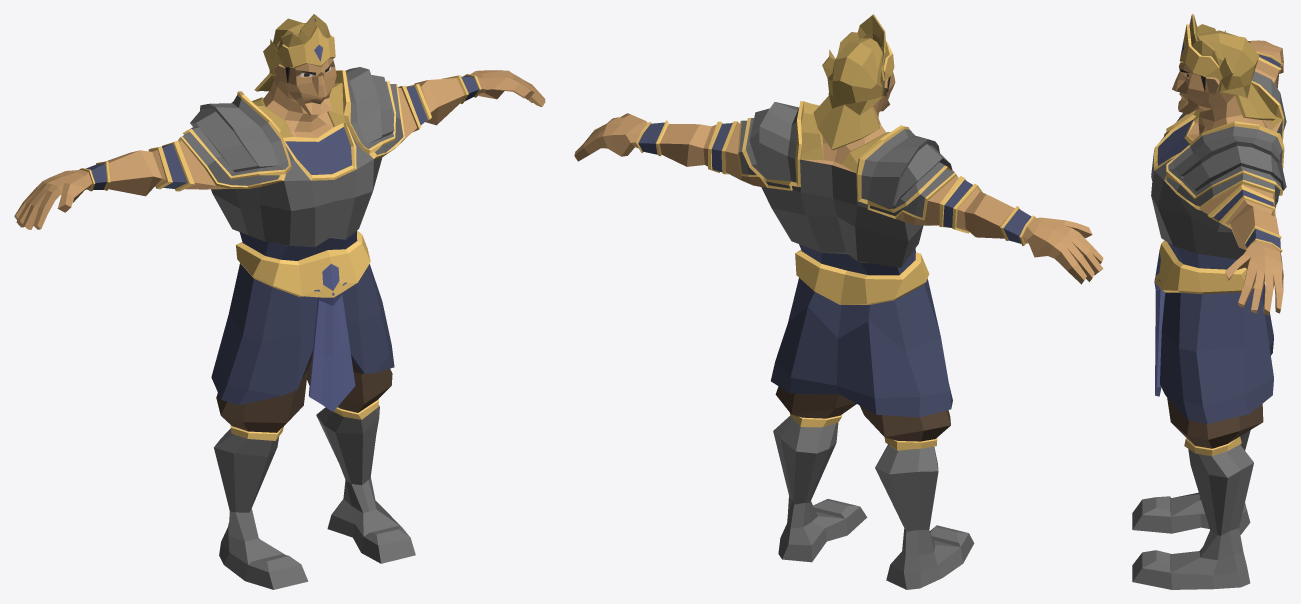
The model's file is (2) senopati.fbx.
3 views of the same model, side by side, from view 1: azimuth 30°, elevation 25°; view 2: azimuth 150°, elevation 25°; view 3: azimuth 270°, elevation 25° (orthographic).
Visible parts, largest first — view 1: Senopati full body; view 2: Senopati full body; view 3: Senopati full body.
Part boxes in pixels (<box>): Senopati full body: <box>14,14,545,589</box>; Senopati full body: <box>574,14,1103,589</box>; Senopati full body: <box>1132,14,1286,589</box>.
Bounding box in the file's own units: 241 × 239 × 62.1.
